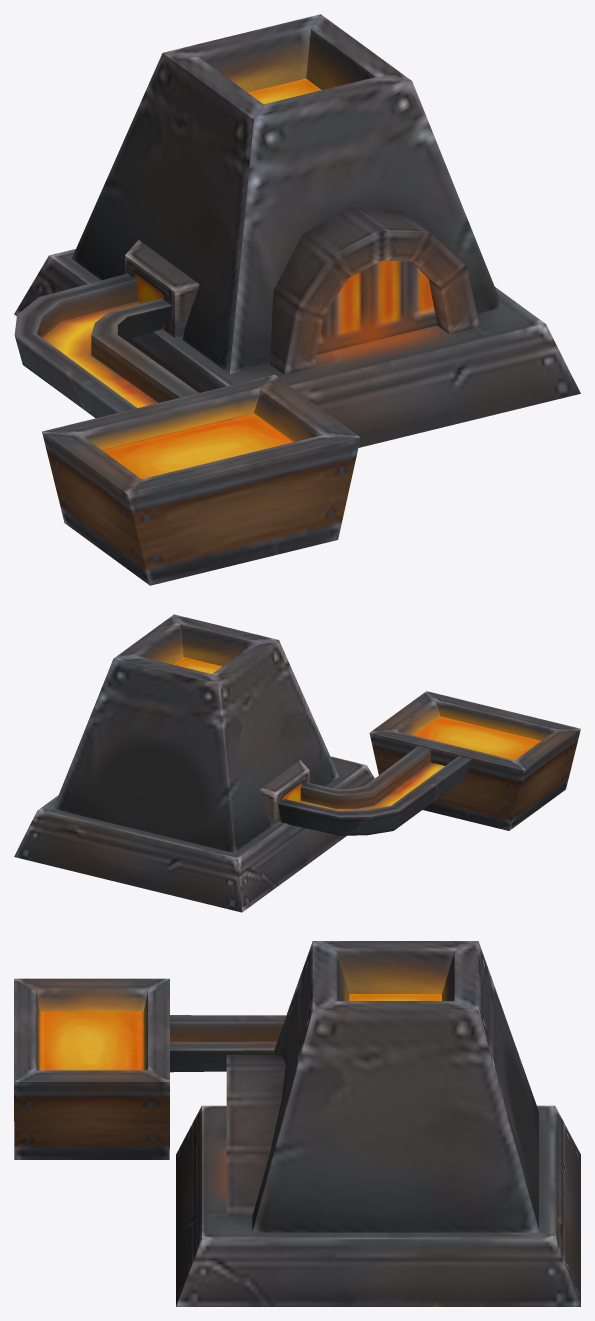
Rendered from mine_prop_1.FBX.
3 renders of one model, top to bottom at view 1: azimuth 30°, elevation 25°; view 2: azimuth 150°, elevation 25°; view 3: azimuth 270°, elevation 25°, orthographic. The views are drawn at different scales.
Parts seen in each view (by area): view 1: mine_prop_1; view 2: mine_prop_1; view 3: mine_prop_1.
Boxes of the visible parts, bbox=[...] form: mine_prop_1: bbox=[14, 14, 580, 585]; mine_prop_1: bbox=[14, 614, 580, 912]; mine_prop_1: bbox=[14, 941, 580, 1306].
Bounding box in the file's own units: 103 × 50.96 × 103.
